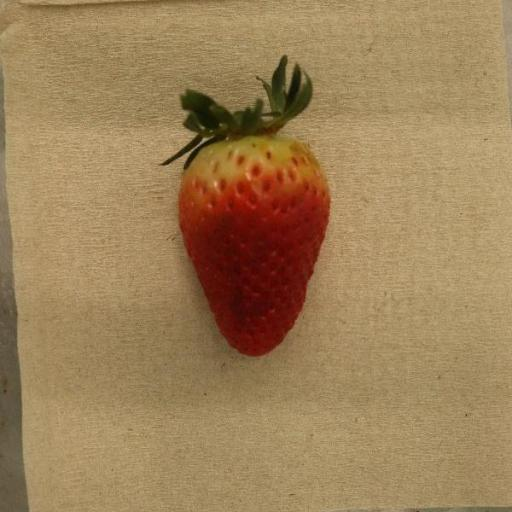Strawberry: (162, 56, 331, 358)
